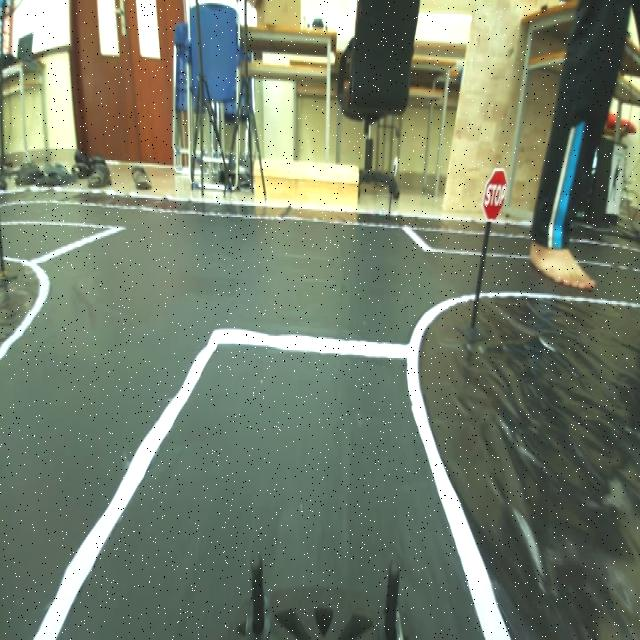stop: (480, 162, 508, 220)
